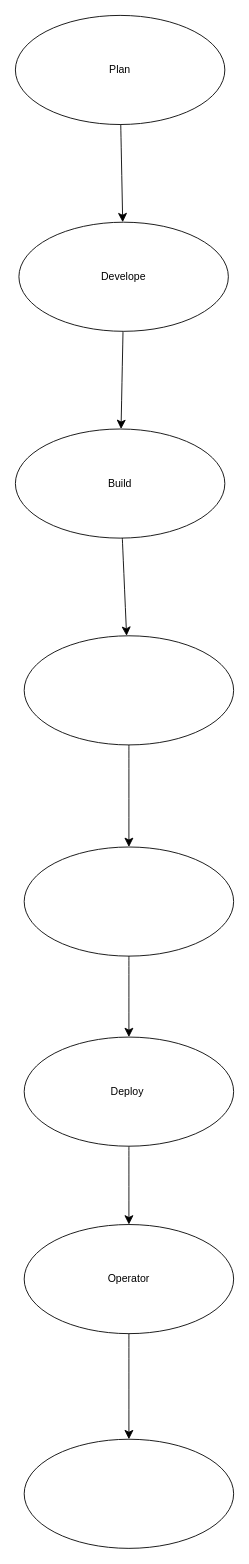
Image size: 249x1564. Some labels were removed from this diagram. The shapes that lost their labels are listed below. From the top down, each one's centre as x and y in pixels, then its label:
At point (128, 690): "Test".
At point (128, 901): "Release".
At point (128, 1493): "Monitor".
